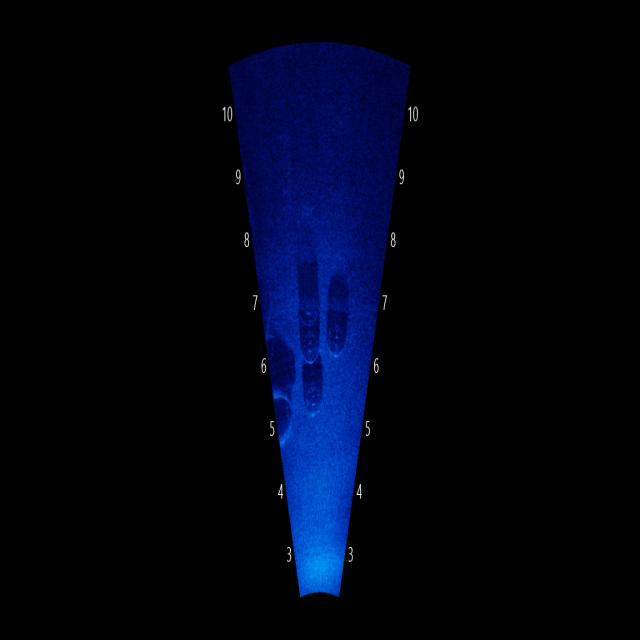circle: (268, 374, 300, 454), (286, 278, 326, 338), (296, 370, 328, 427), (328, 296, 346, 362), (300, 321, 322, 374)
